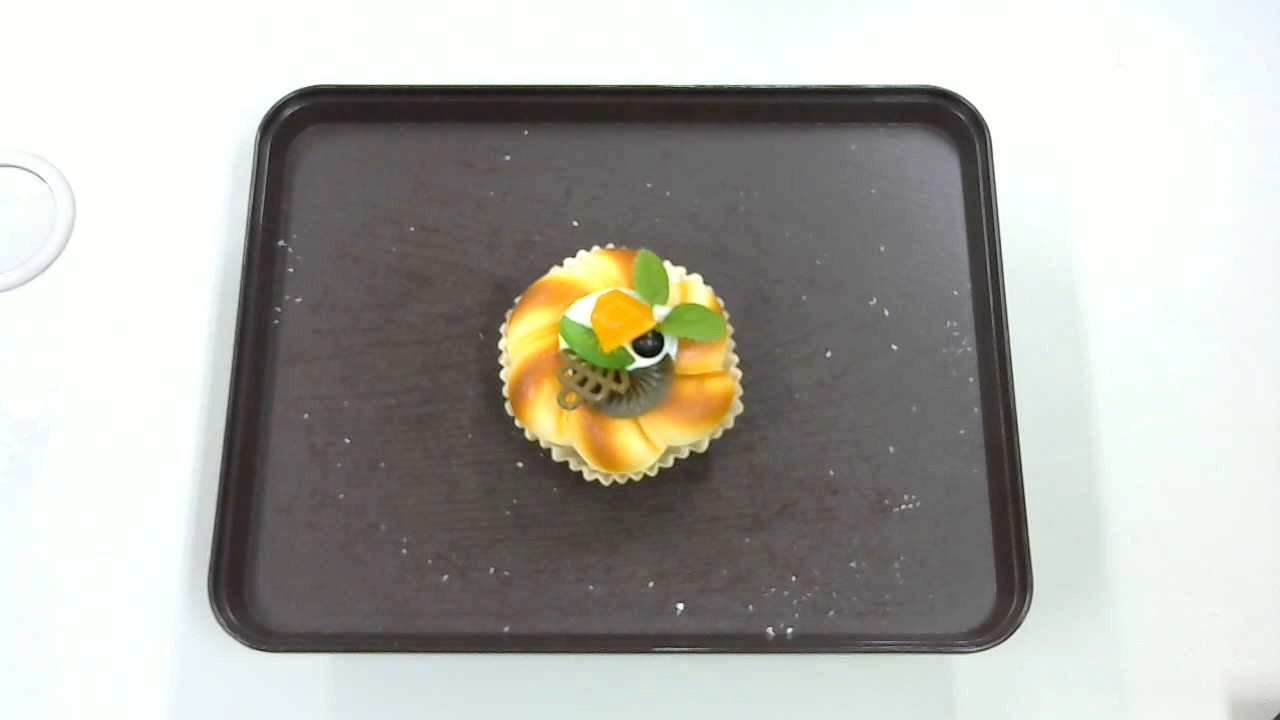fruit tart: (498, 243, 745, 487)
